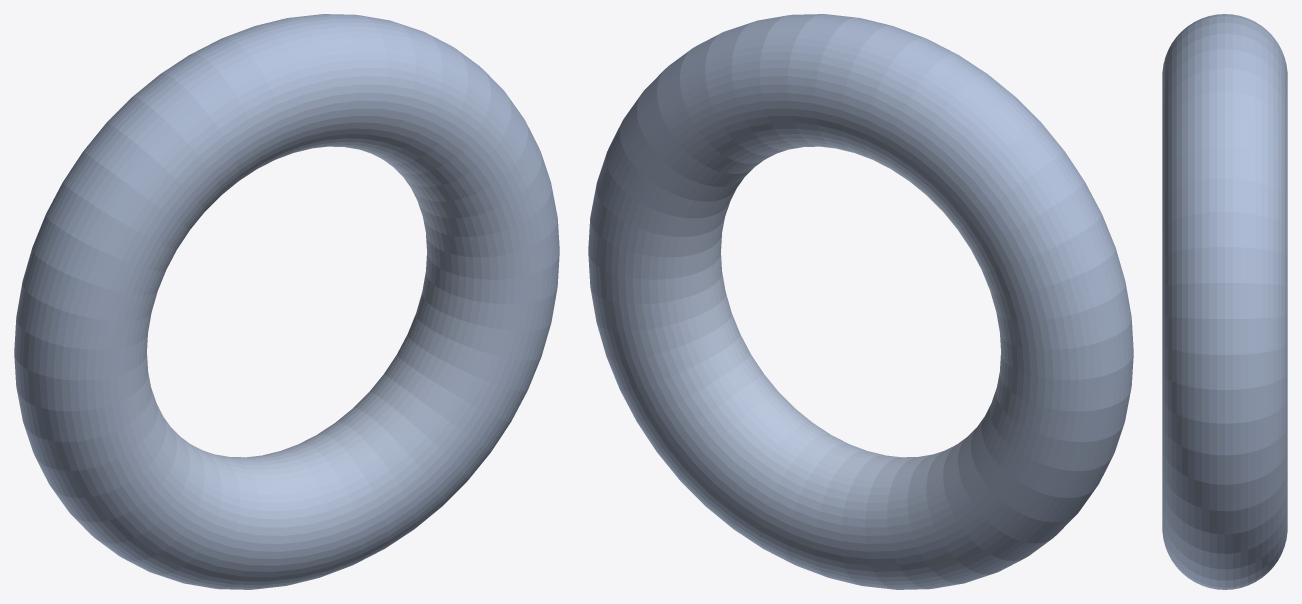
The picture shows the model from 3 angles, left to right: view 1: azimuth 30°, elevation 25°; view 2: azimuth 150°, elevation 25°; view 3: azimuth 270°, elevation 25°; orthographic projection. The views are drawn at different scales.
Parts seen in each view (by area): view 1: world; view 2: world; view 3: world.
Part boxes in pixels (x1,y1,x2,y2): world: (14, 14, 559, 589); world: (588, 14, 1133, 589); world: (1162, 14, 1287, 589).
Bounding box in the file's own units: 23.87 × 23.82 × 5.19.
